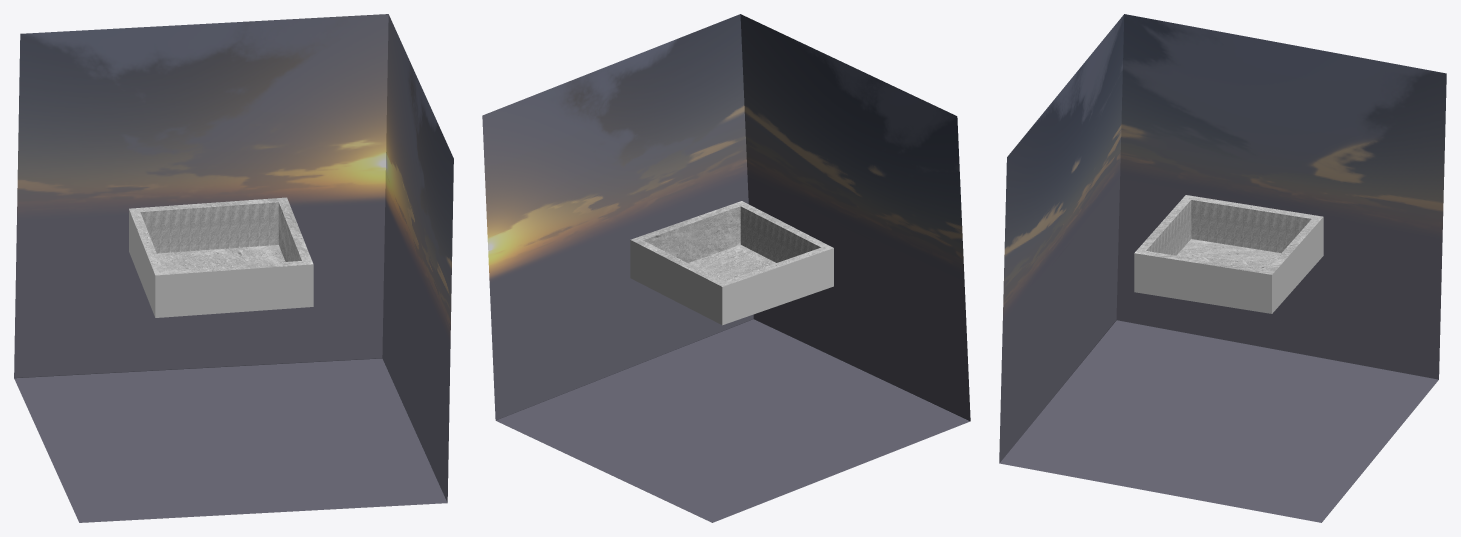
The model's file is level2.gltf.
3 views of the same model, side by side, from view 1: azimuth 30°, elevation 25°; view 2: azimuth 150°, elevation 25°; view 3: azimuth 270°, elevation 25° (orthographic). The views are drawn at different scales.
Visible parts, largest first — view 1: Cube, Plane; view 2: Cube, Plane; view 3: Cube, Plane.
Part boxes in pixels (x1,y1,x2,y2): Cube: (14, 14, 453, 522); Plane: (129, 197, 313, 317); Cube: (482, 14, 970, 522); Plane: (630, 201, 833, 325); Cube: (999, 14, 1446, 522); Plane: (1134, 195, 1323, 313).
Bounding box in the file's own units: 224 × 180 × 222.
Materials: 2 (2 with a texture image).
